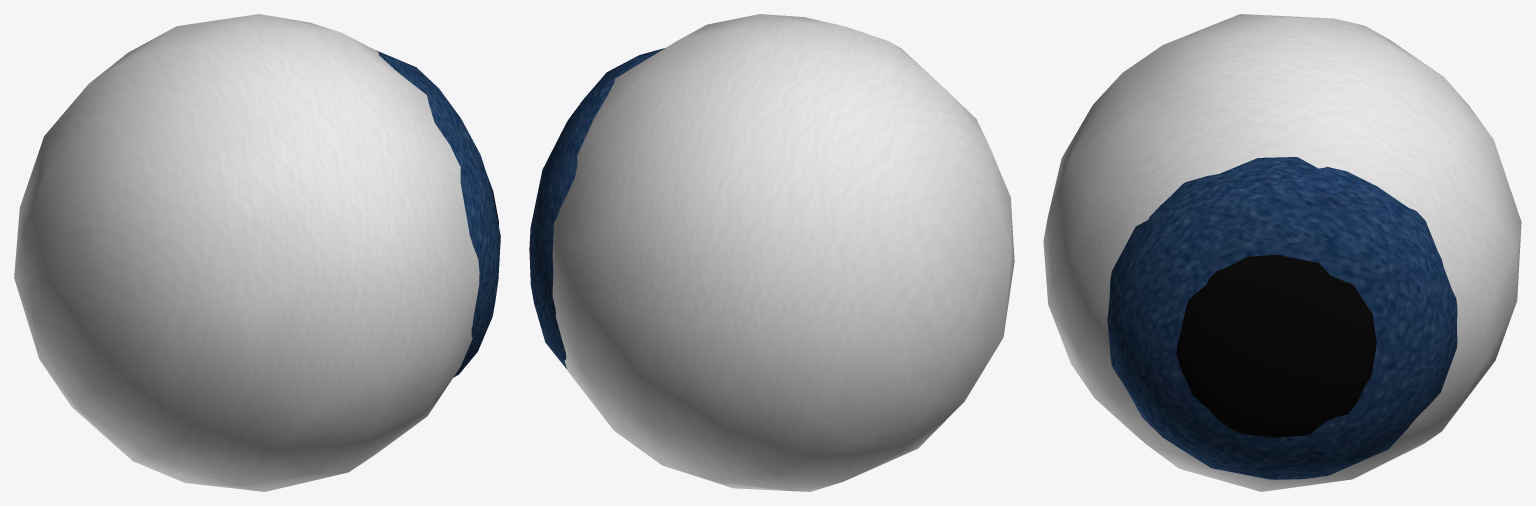
File: blue eye.dae
3 views of the same model, side by side, from view 1: azimuth 30°, elevation 25°; view 2: azimuth 150°, elevation 25°; view 3: azimuth 270°, elevation 25° (orthographic).
Parts seen in each view (by area): view 1: Sphere_001; view 2: Sphere_001; view 3: Sphere_001.
Part boxes in pixels (left/top/right/bottom): Sphere_001: left=14, top=14, right=500, bottom=491; Sphere_001: left=529, top=14, right=1014, bottom=491; Sphere_001: left=1043, top=14, right=1521, bottom=491.
Size of the model in its own units: 0.1334 by 0.1315 by 0.1313.
Materials: 3 (3 with a texture image).
